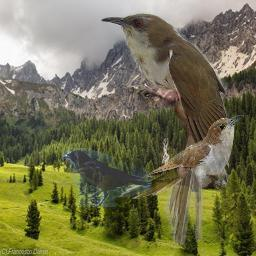Crow: (62, 148, 152, 207)
Cuckoo: (100, 11, 229, 245), (119, 114, 244, 199)
